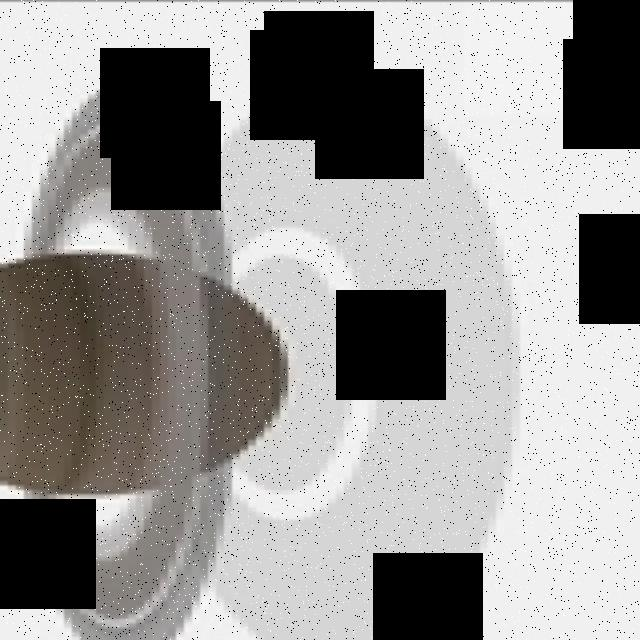Saturn: (0, 80, 296, 640)
